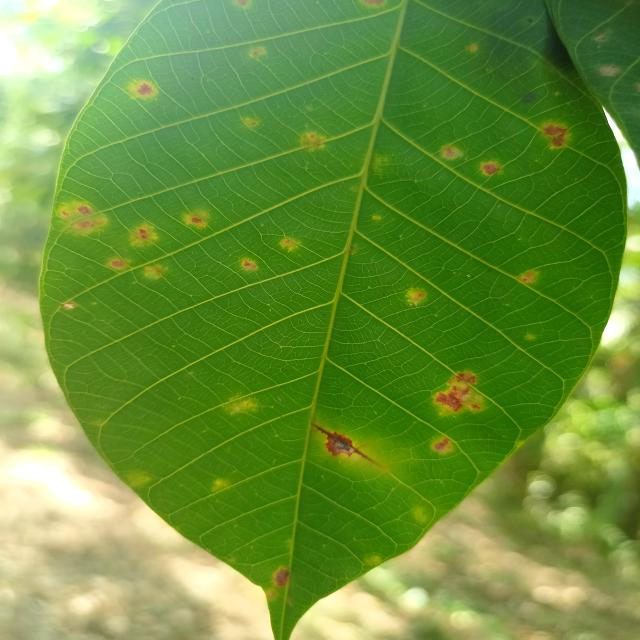Corynespora: (311, 421, 373, 464)
